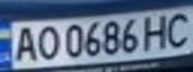0: (63, 21, 84, 59)
6: (118, 16, 145, 55), (81, 19, 106, 57)
8: (100, 18, 124, 56)
A: (9, 24, 39, 63)
C: (160, 9, 193, 48)
H: (139, 11, 175, 51)
O: (33, 23, 60, 62)
